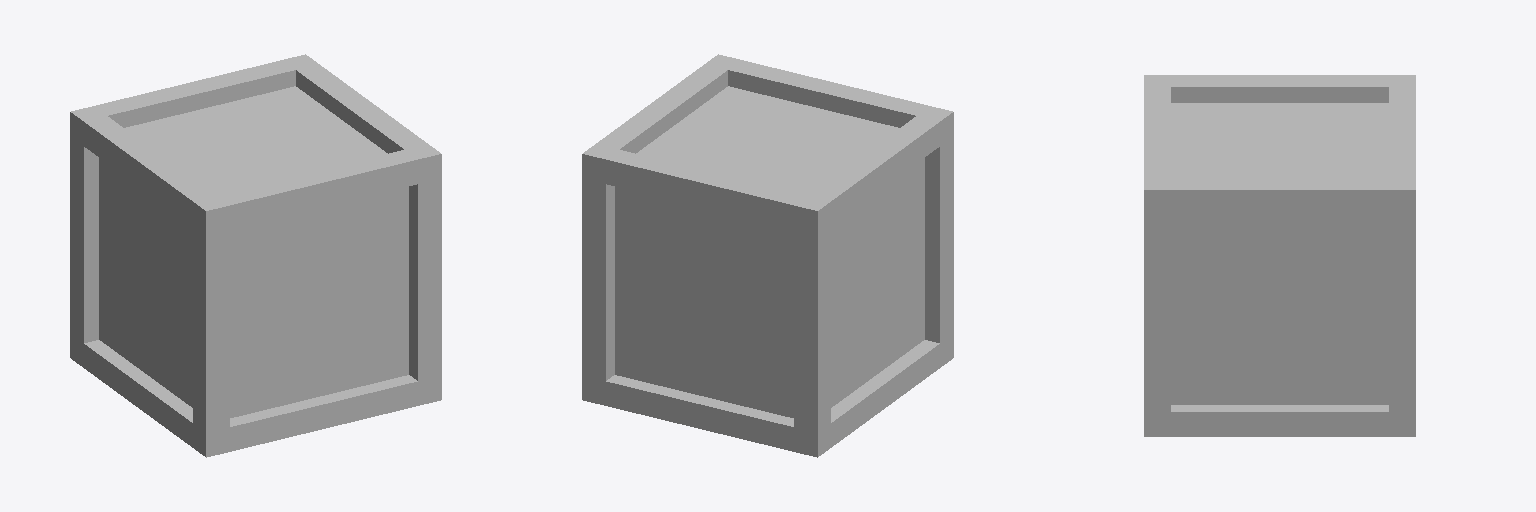
Rendered from crate.obj.
3 views of the same model, side by side, from view 1: azimuth 30°, elevation 25°; view 2: azimuth 150°, elevation 25°; view 3: azimuth 270°, elevation 25° (orthographic).
Visible parts, largest first — view 1: Cube.004_Cube.012; view 2: Cube.004_Cube.012; view 3: Cube.004_Cube.012.
Boxes of the visible parts, <box> form: Cube.004_Cube.012: <box>70,54,441,457</box>; Cube.004_Cube.012: <box>582,54,953,457</box>; Cube.004_Cube.012: <box>1144,75,1415,436</box>.
Size of the model in its own units: 1.9 by 1.9 by 1.9.